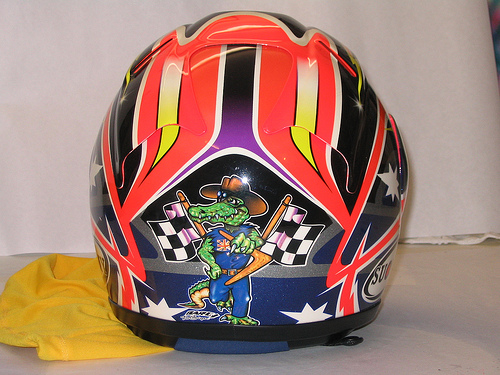helmet: (76, 13, 417, 328)
